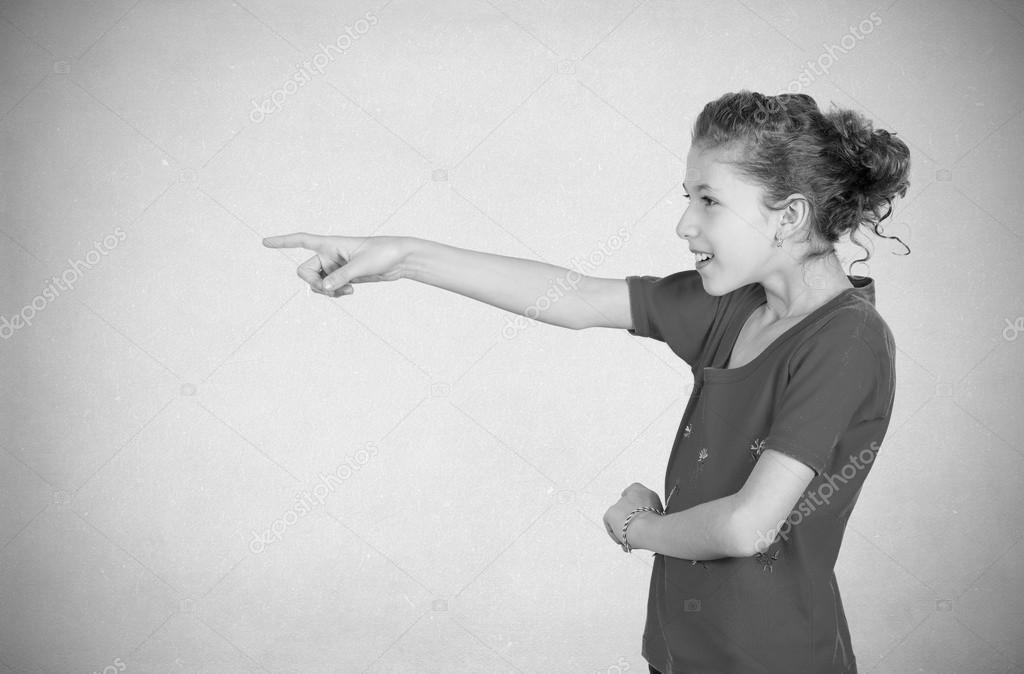pointing_gesture: (257, 229, 438, 300)
